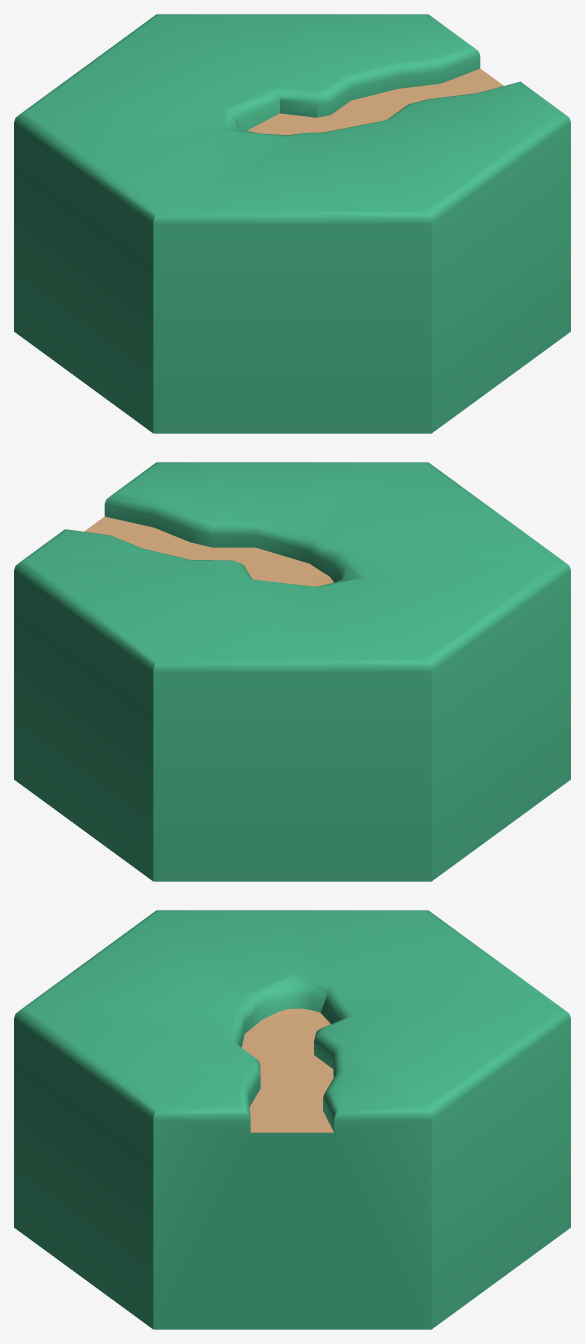
File: hex_forest_roadA.glb
3 views of the same model, one above another, from view 1: azimuth 30°, elevation 25°; view 2: azimuth 150°, elevation 25°; view 3: azimuth 270°, elevation 25° (orthographic).
Visible parts, largest first — view 1: hex_forest_roadA; view 2: hex_forest_roadA; view 3: hex_forest_roadA.
Part boxes in pixels (x1,y1,x2,y2): hex_forest_roadA: (14, 14, 570, 433); hex_forest_roadA: (14, 462, 570, 881); hex_forest_roadA: (14, 910, 570, 1329).
Size of the model in its own units: 2 by 1 by 2.31.
